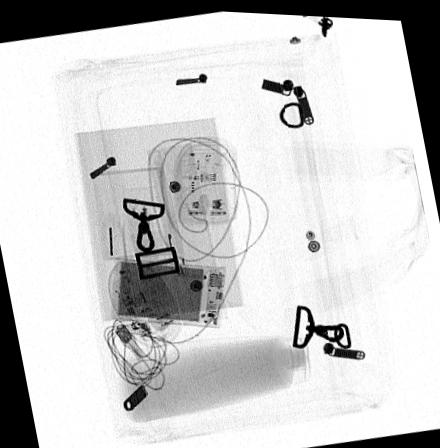Powerbank: (113, 255, 229, 326)
